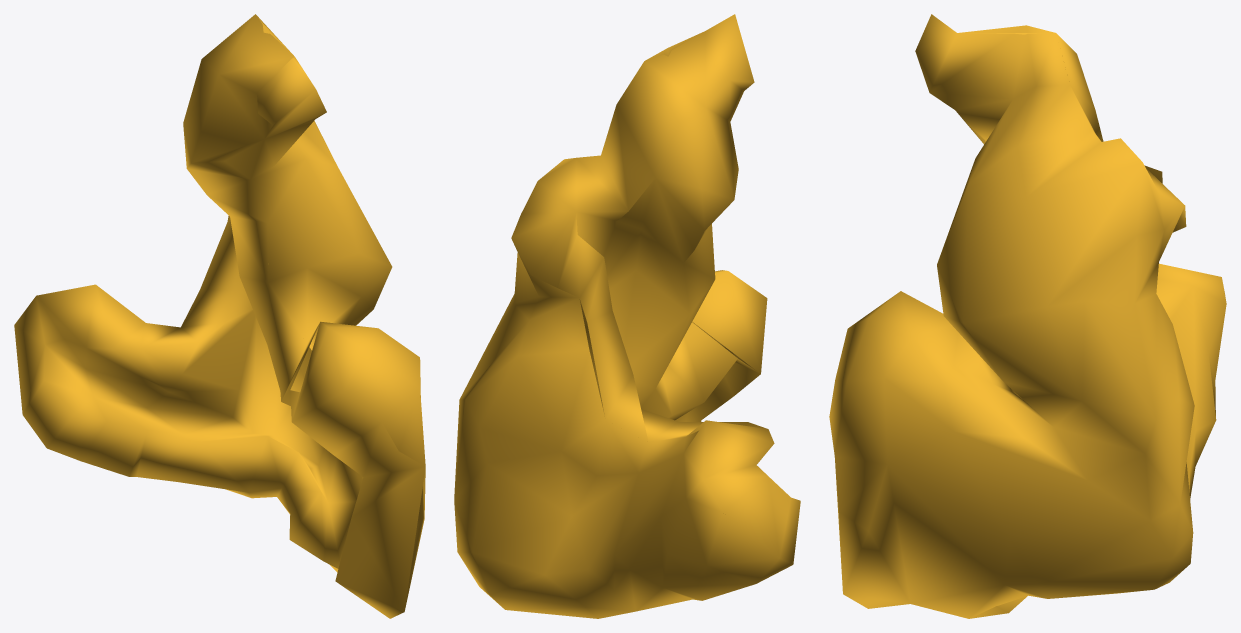
Rendered from nervoso-triangular-part-of-inferior-frontal-gyrus-l.glb.
3 renders of one model, left to right at view 1: azimuth 30°, elevation 25°; view 2: azimuth 150°, elevation 25°; view 3: azimuth 270°, elevation 25°, orthographic. The views are drawn at different scales.
Parts seen in each view (by area): view 1: Triangular part of inferior frontal gyrus.l; view 2: Triangular part of inferior frontal gyrus.l; view 3: Triangular part of inferior frontal gyrus.l.
Boxes of the visible parts, x1,y1,x2,y2 form: Triangular part of inferior frontal gyrus.l: (14, 14, 425, 618); Triangular part of inferior frontal gyrus.l: (454, 14, 800, 618); Triangular part of inferior frontal gyrus.l: (829, 14, 1226, 618).
Size of the model in its own units: 0.0205 by 0.0353 by 0.0224.
